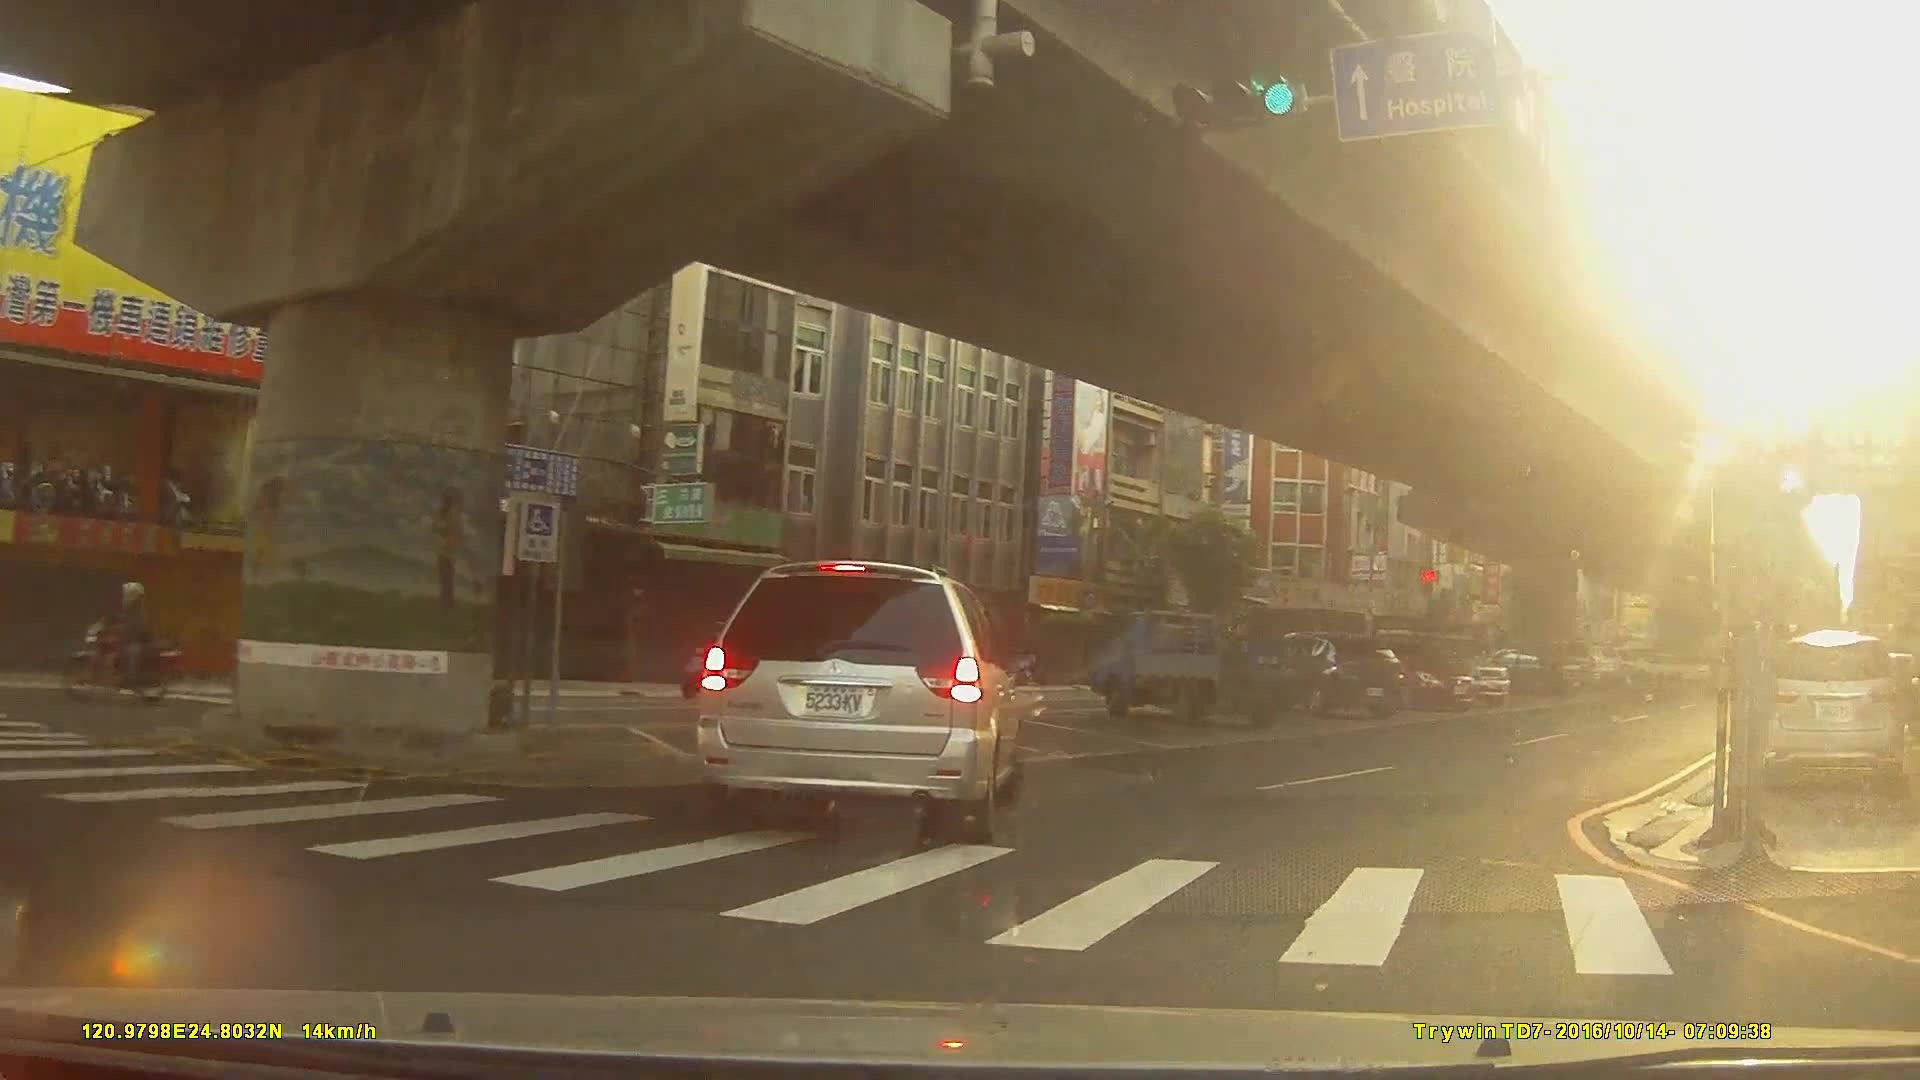rider: (58, 581, 182, 708), (679, 619, 744, 700)
vehicle: (694, 558, 1019, 846), (1087, 606, 1306, 725), (1760, 632, 1902, 799), (1255, 629, 1402, 717), (1336, 637, 1478, 711), (1468, 649, 1563, 699)
